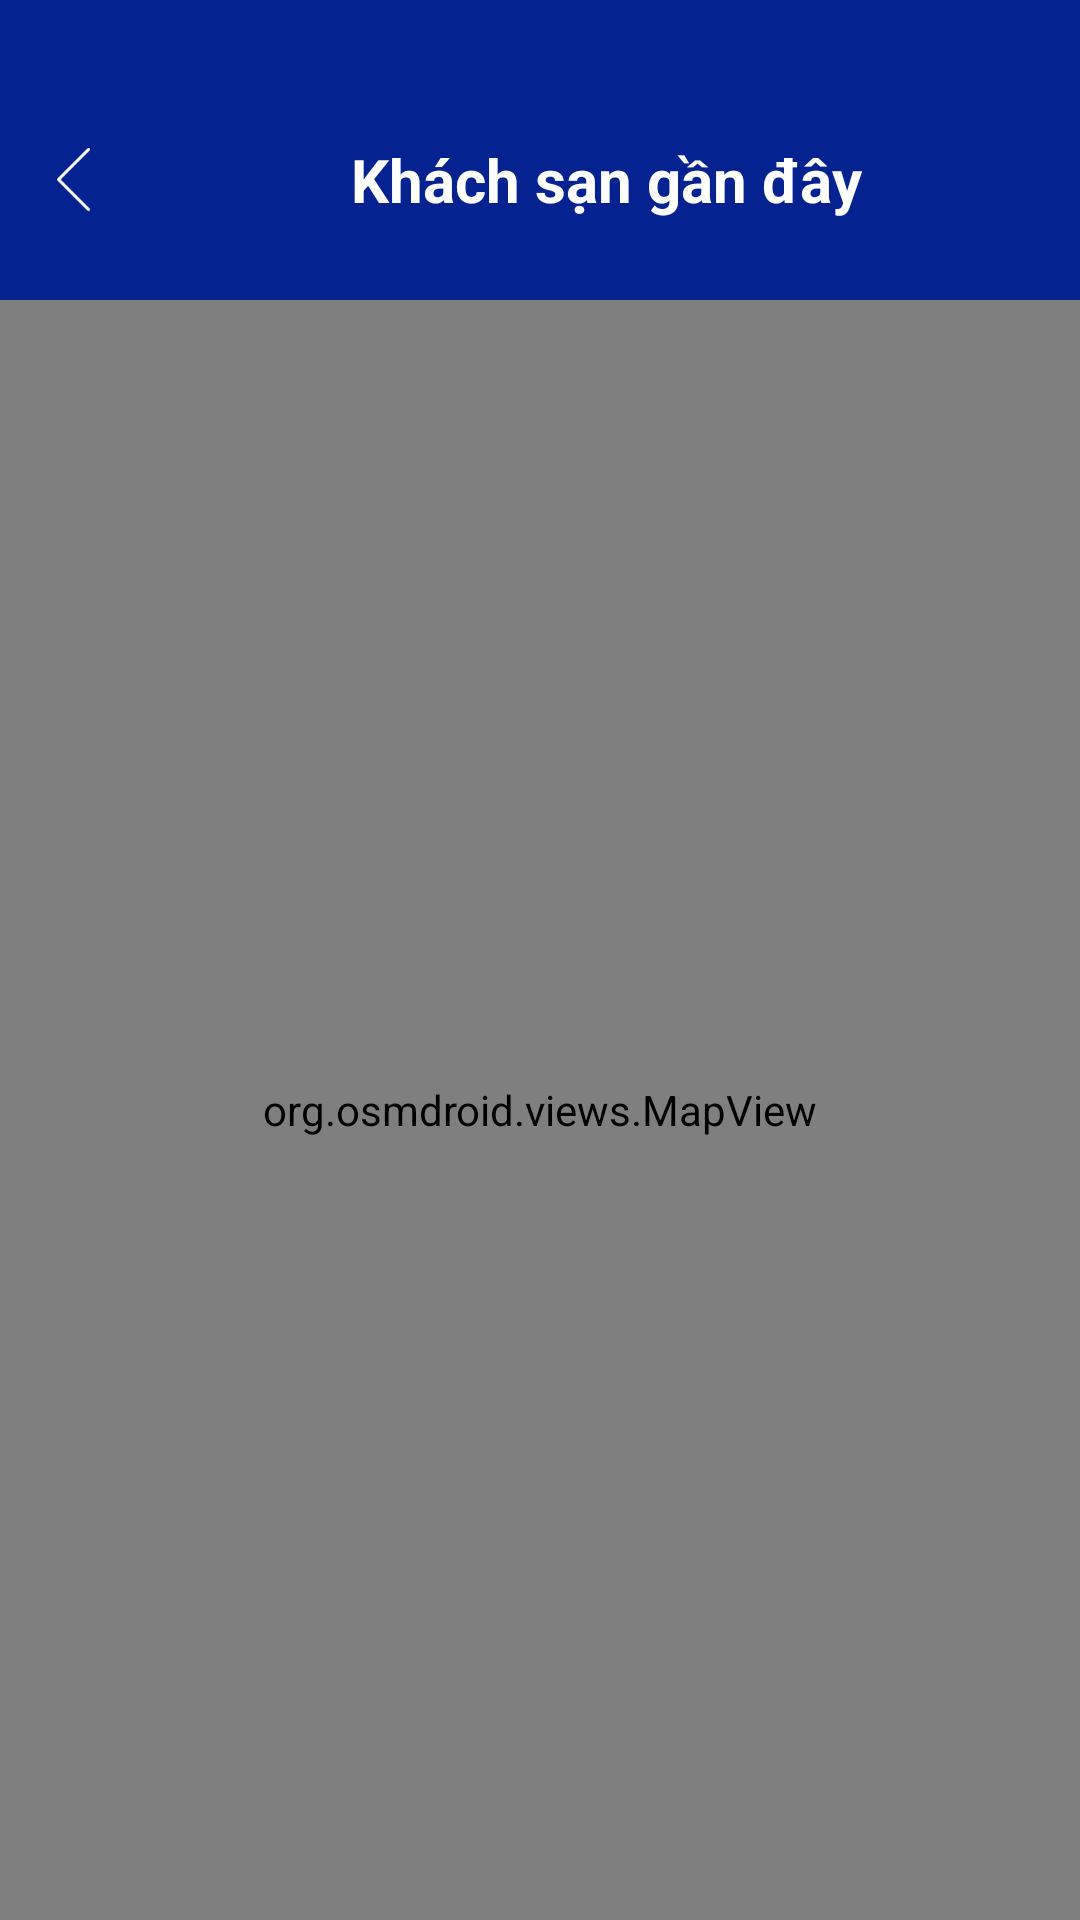

Screen size 1080px×1920px. Icon name, then its box in pixels as [left=x1, top=y1, right=x2, bottom=y2]:
Back: [left=57, top=148, right=90, bottom=211]
